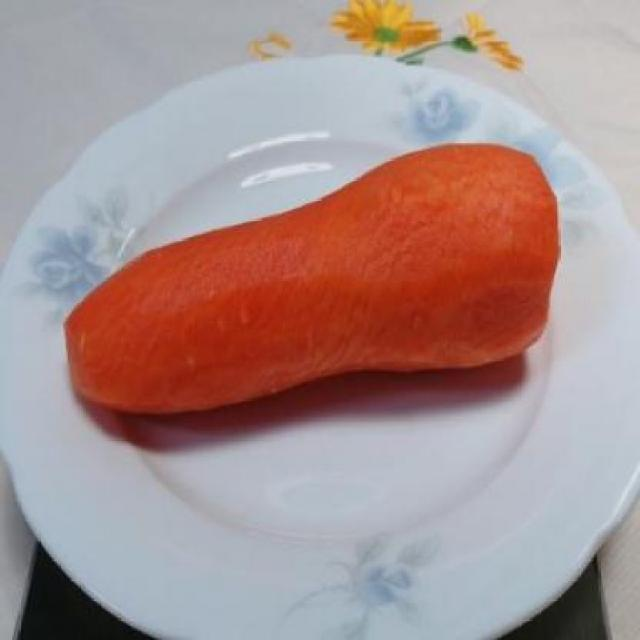carrot: (60, 124, 566, 418)
